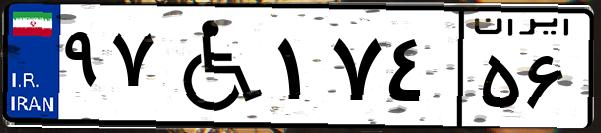1: (270, 28, 330, 110)
4: (385, 28, 445, 110)
5: (475, 38, 525, 113)
6: (525, 38, 570, 115)
7: (330, 28, 385, 110), (110, 28, 158, 98)
9: (57, 26, 110, 100)
ژ (معلولین و جانبازان): (158, 12, 270, 120)
